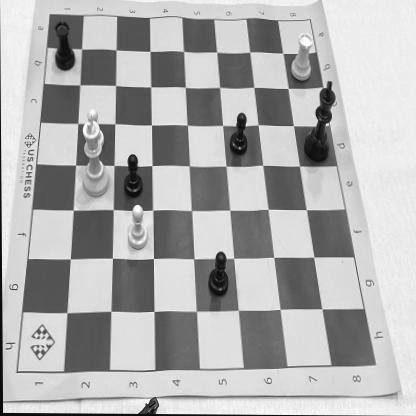black-king: (301, 78, 338, 167)
black-pawn: (205, 242, 231, 302), (226, 107, 251, 160), (121, 150, 146, 200)
black-rook: (47, 15, 78, 74)
white-king: (70, 112, 114, 202)
white-pawn: (121, 202, 151, 254), (80, 106, 107, 154)
white-rook: (288, 30, 318, 90)
